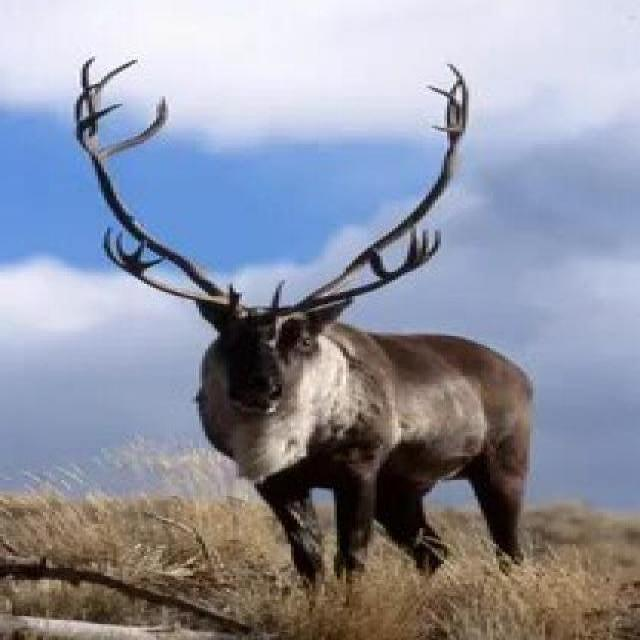deer: (9, 86, 640, 539)
